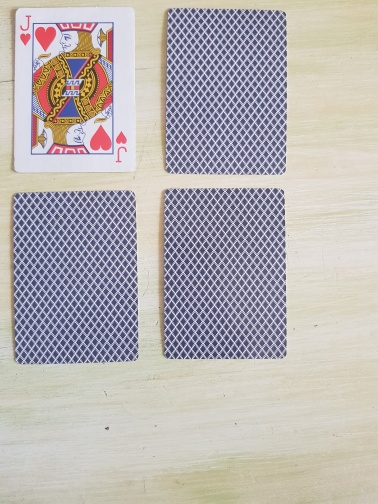jack: (12, 6, 137, 174)
